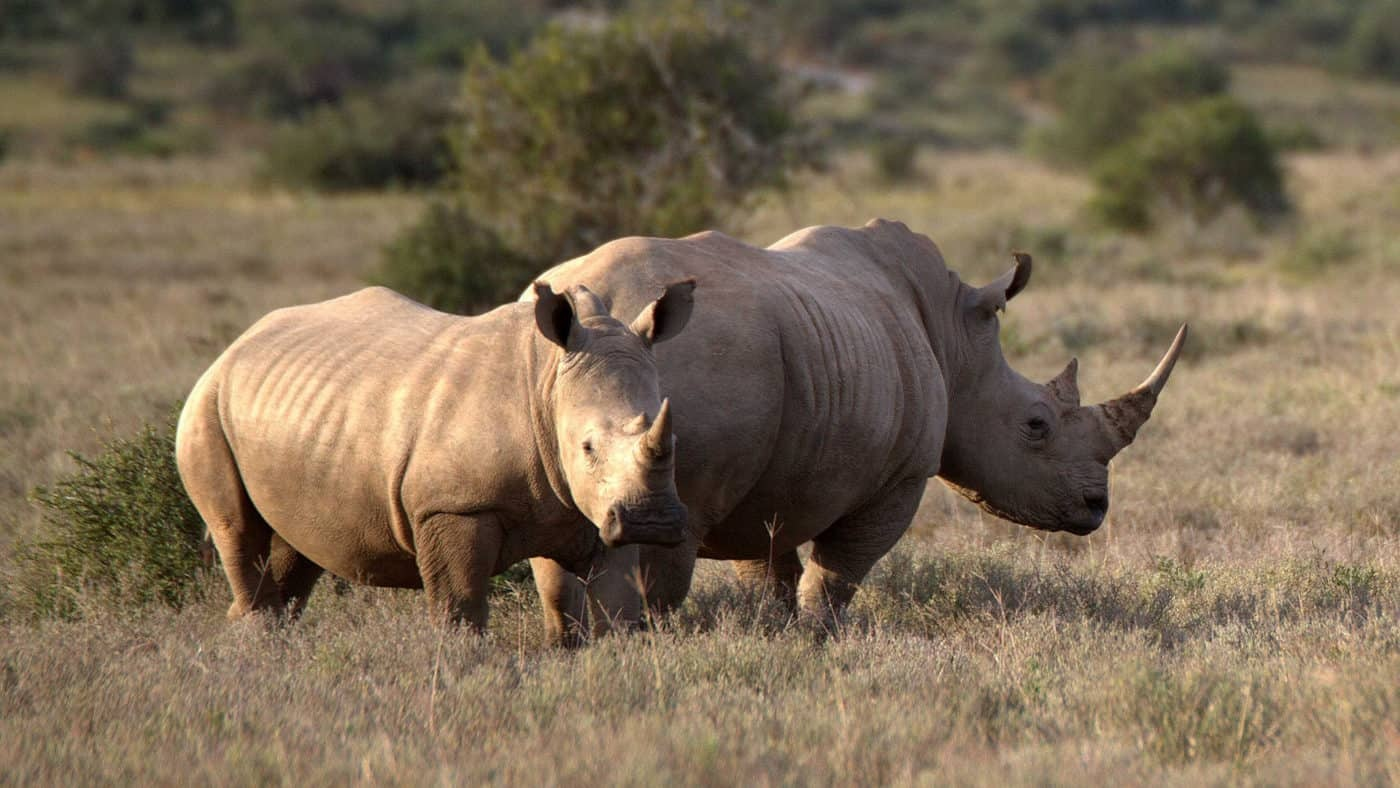rhino: (847, 427, 1400, 788), (436, 467, 965, 788)
